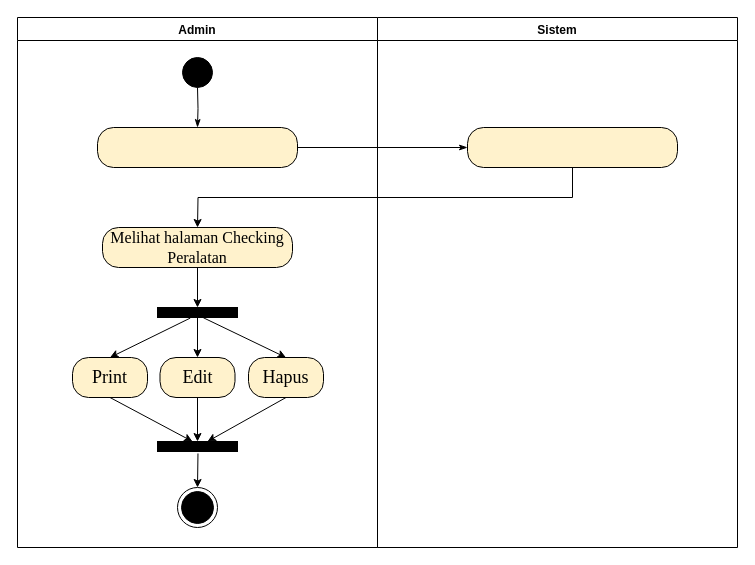
This 755x565 diagram has some shape labels left out. Here are the shapes that lost their labels. From the top down, the centre of each, then its label:
At point (197, 147): "Memilih menu Checking Peralatan".
At point (572, 147): "Menampilkan halaman Checking Peralatan".
